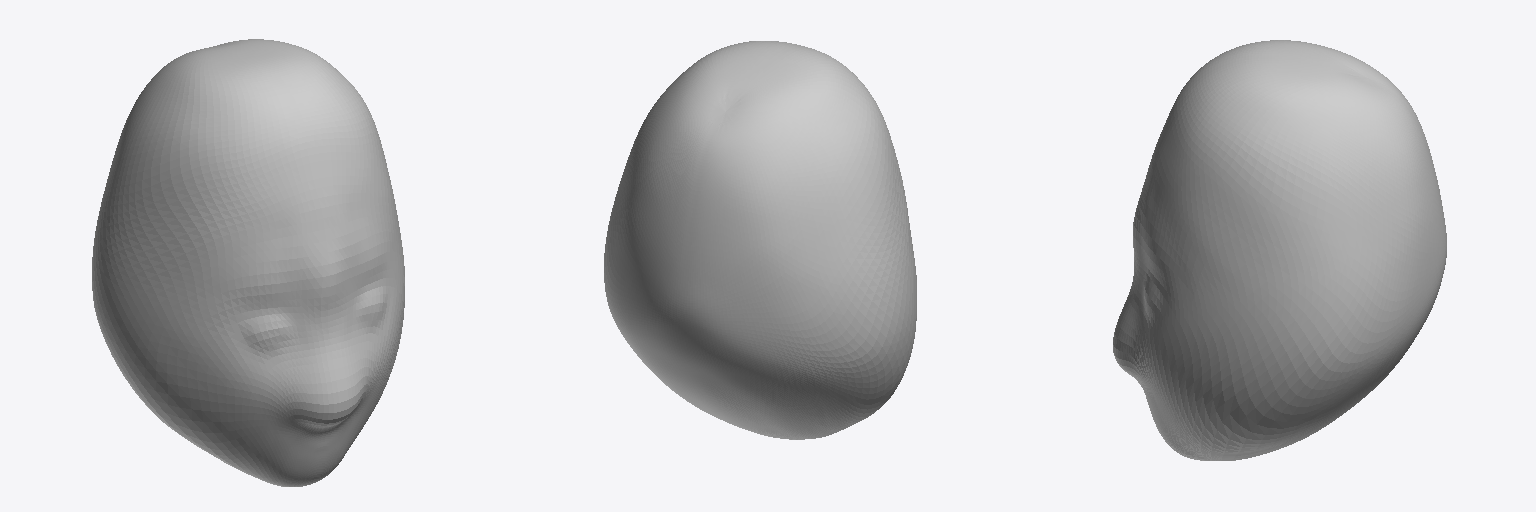
The model's file is headStatue.obj.
The picture shows the model from 3 angles: view 1: azimuth 30°, elevation 25°; view 2: azimuth 150°, elevation 25°; view 3: azimuth 270°, elevation 25°; orthographic projection.
Visible parts, largest first — view 1: Sphere_Sphere.001; view 2: Sphere_Sphere.001; view 3: Sphere_Sphere.001.
Part boxes in pixels (left/top/right/bottom): Sphere_Sphere.001: left=92, top=39, right=404, bottom=486; Sphere_Sphere.001: left=604, top=41, right=916, bottom=439; Sphere_Sphere.001: left=1113, top=40, right=1446, bottom=460.
Size of the model in its own units: 2.05 by 2.8 by 2.14.